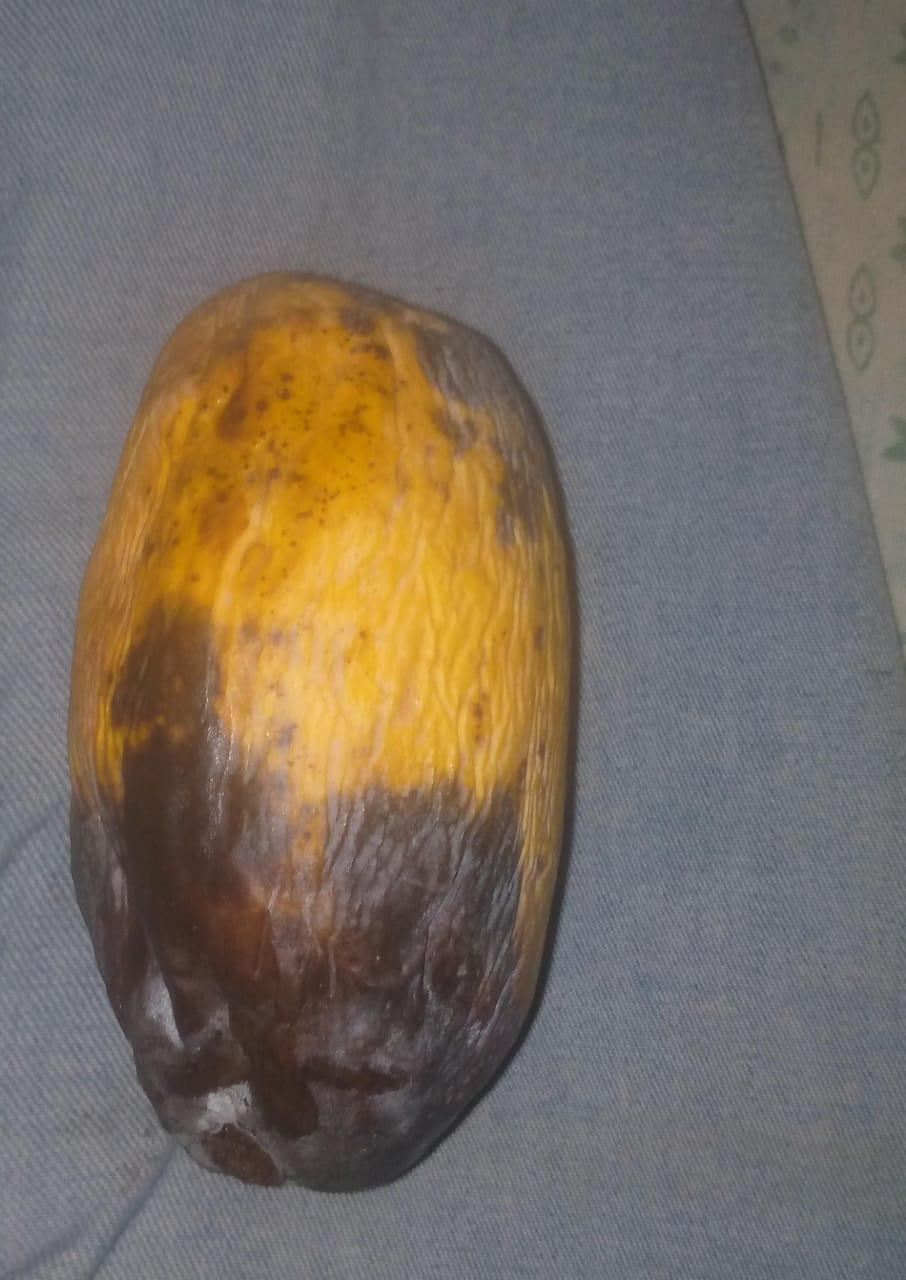mango: (65, 268, 579, 1193)
